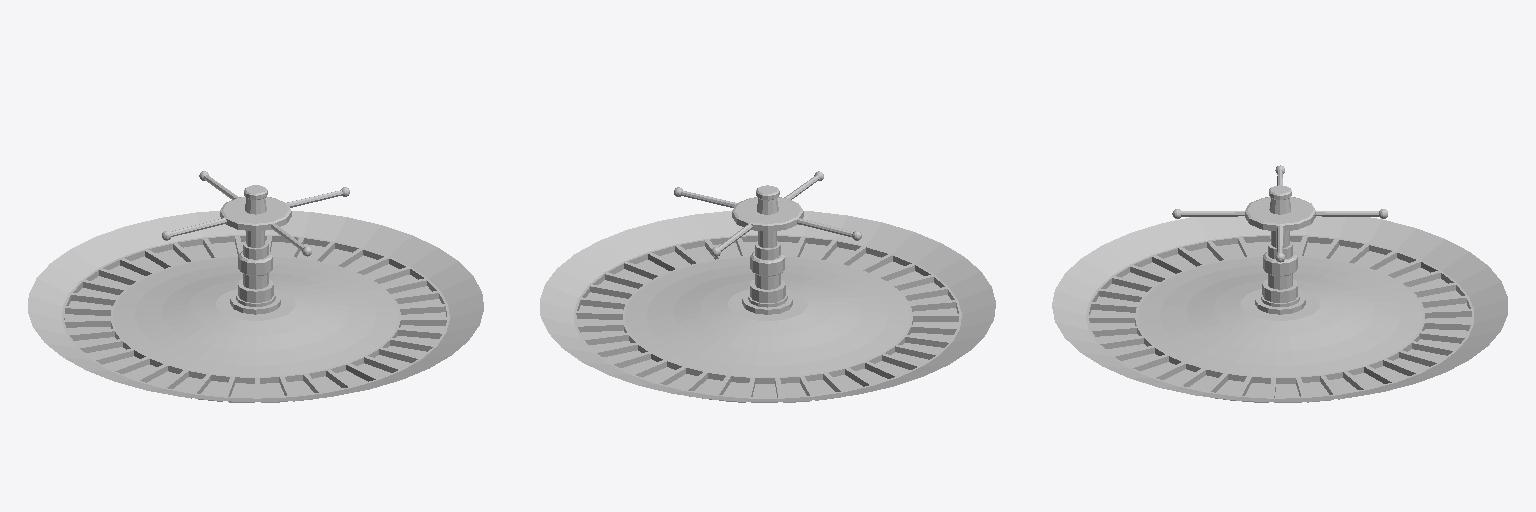
File: Spin.obj
The picture shows the model from 3 angles: view 1: azimuth 30°, elevation 25°; view 2: azimuth 150°, elevation 25°; view 3: azimuth 270°, elevation 25°; orthographic projection.
Parts seen in each view (by area): view 1: Rspin1, Rspin; view 2: Rspin1, Rspin; view 3: Rspin1, Rspin.
Boxes of the visible parts, x1=… form: Rspin1: x1=28, y1=211, x2=483, y2=402; Rspin: x1=162, y1=171, x2=349, y2=314; Rspin1: x1=540, y1=211, x2=995, y2=402; Rspin: x1=674, y1=171, x2=861, y2=314; Rspin1: x1=1052, y1=216, x2=1507, y2=402; Rspin: x1=1172, y1=165, x2=1387, y2=314.
Bounding box in the file's own units: 8.89 × 2.86 × 8.89.